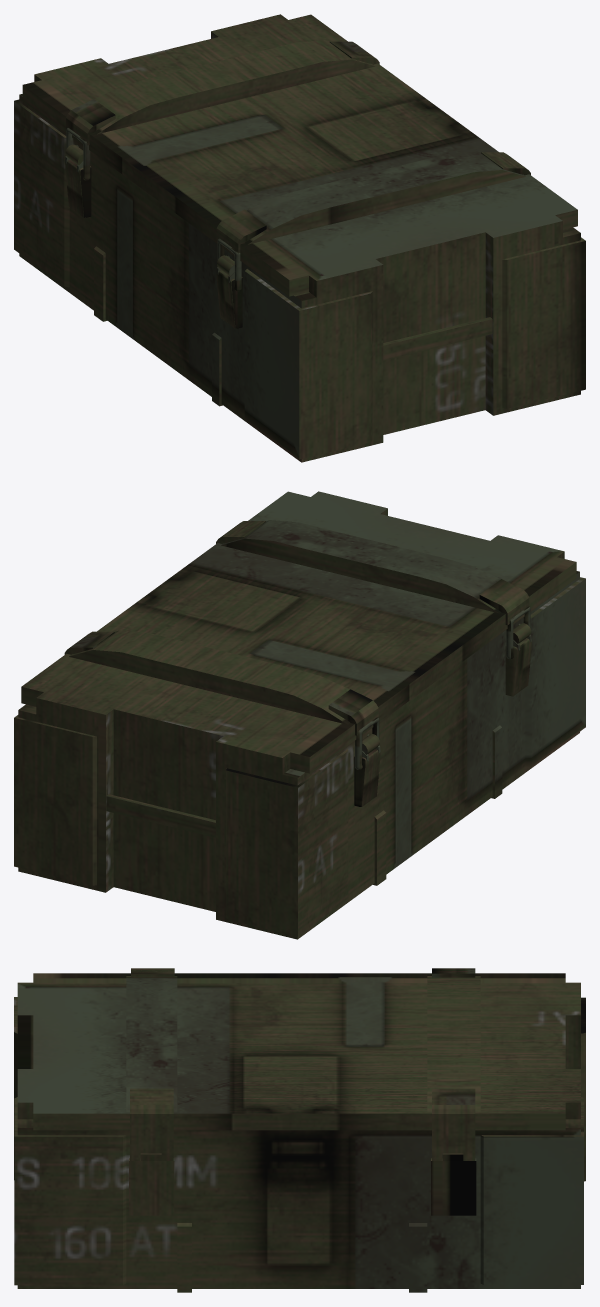
File: ammobox.obj
3 views of the same model, one above another, from view 1: azimuth 30°, elevation 25°; view 2: azimuth 150°, elevation 25°; view 3: azimuth 270°, elevation 25° (orthographic).
Parts seen in each view (by area): view 1: pCube19 group; view 2: pCube19 group; view 3: pCube19 group.
Part boxes in pixels (x1,y1,x2,y2): pCube19 group: (14,14,585,462); pCube19 group: (14,491,585,939); pCube19 group: (14,968,585,1292).
Size of the model in its own units: 3.82 by 2.42 by 6.37.
